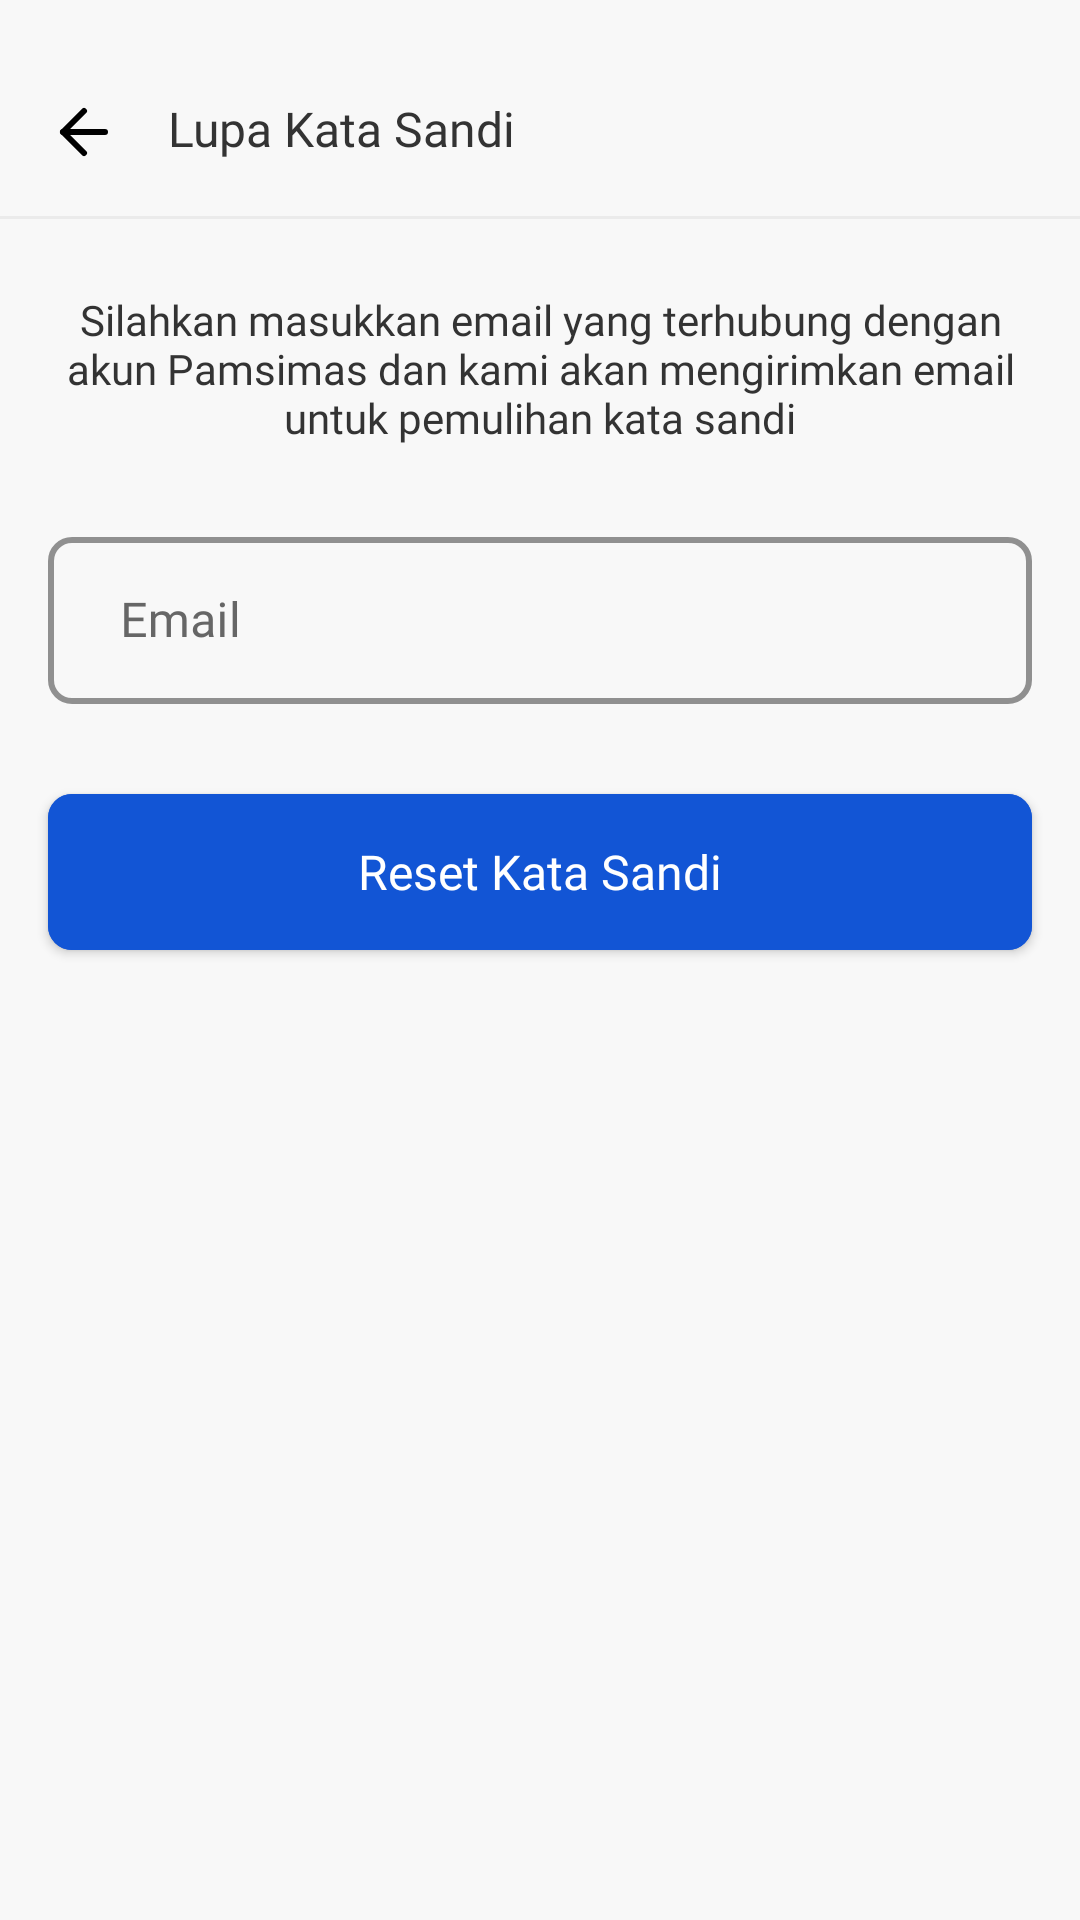

Where to tap for icons on this 1080w x 1920h app screen, as (x=x, y=y):
back: (x=84, y=132)
